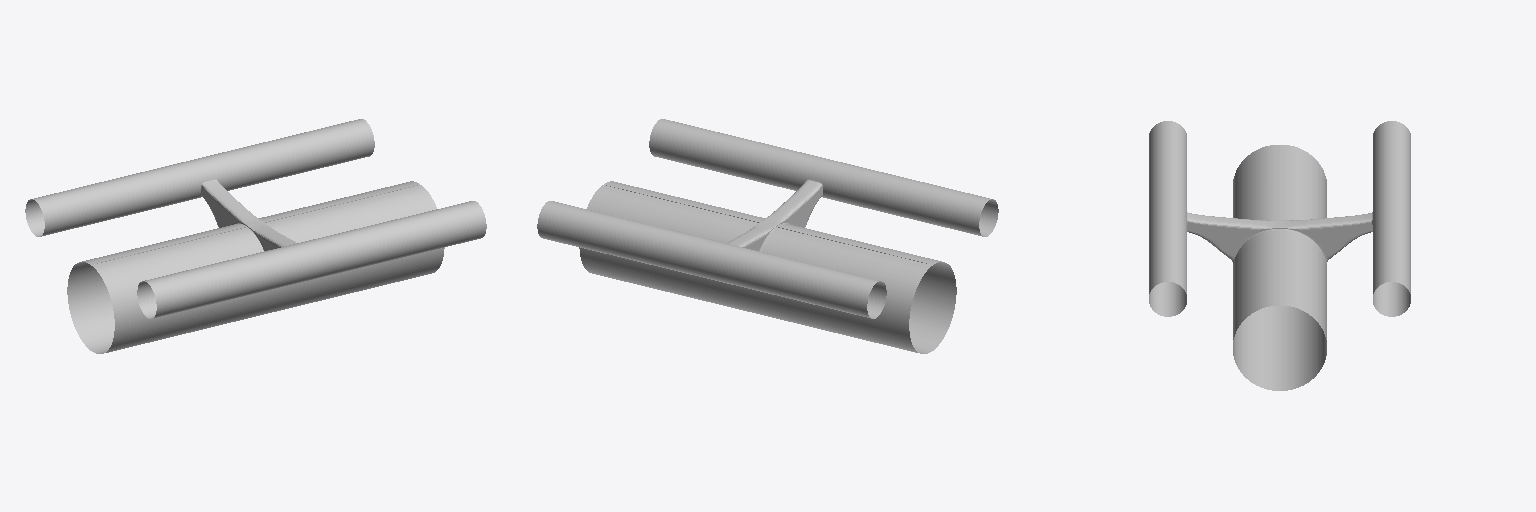
Rendered from tracks.obj.
3 views of the same model, side by side, from view 1: azimuth 30°, elevation 25°; view 2: azimuth 150°, elevation 25°; view 3: azimuth 270°, elevation 25° (orthographic).
Parts seen in each view (by area): view 1: Cylinder; view 2: Cylinder; view 3: Cylinder.
Boxes of the visible parts, box(x1,y1,x2,y2) form: Cylinder: box(25, 119, 486, 353); Cylinder: box(537, 119, 998, 353); Cylinder: box(1149, 121, 1410, 390).
Bounding box in the file's own units: 0.7802 × 0.2472 × 0.5377.